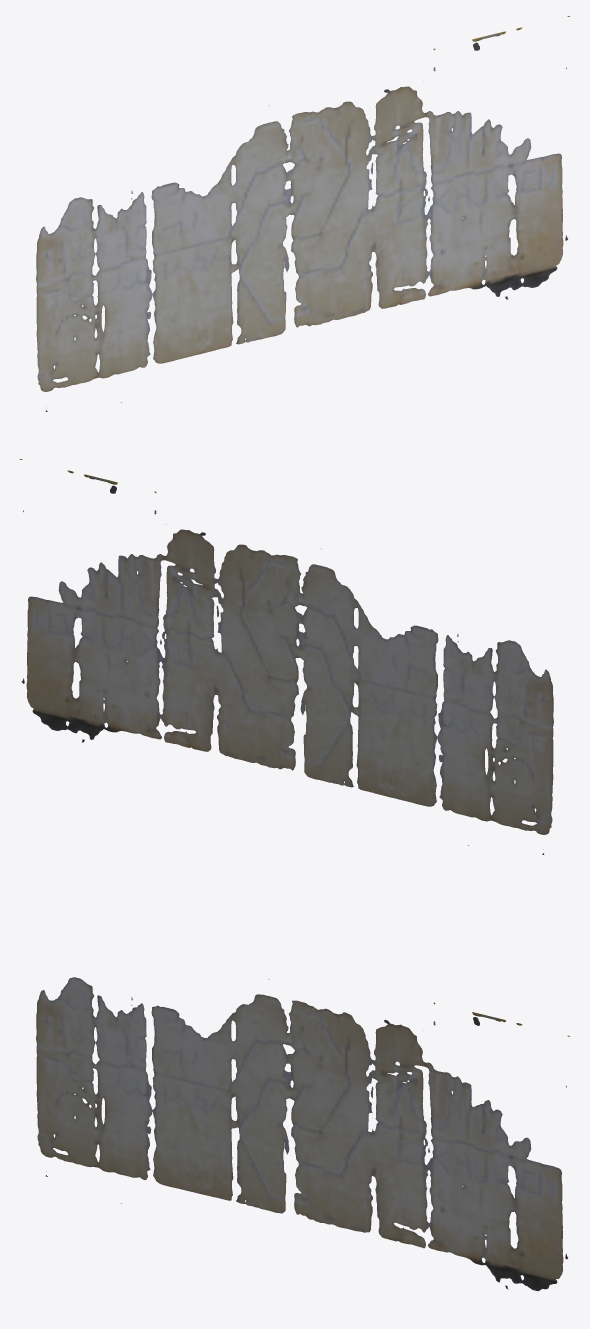
File: store_poster_6.fbx
3 renders of one model, top to bottom at view 1: azimuth 30°, elevation 25°; view 2: azimuth 150°, elevation 25°; view 3: azimuth 330°, elevation 25°, orthographic.
Parts seen in each view (by area): view 1: store_poster_6; view 2: store_poster_6; view 3: store_poster_6.
Part boxes in pixels (box(x1,y1,x2,y2)): store_poster_6: box(36, 16, 570, 411); store_poster_6: box(19, 459, 553, 854); store_poster_6: box(36, 977, 569, 1291).
Bounding box in the file's own units: 56.77 × 26.8 × 9.14e-06.
1 material, 1 textured.
